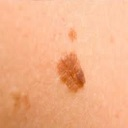Melanoma: (56, 52, 88, 90)
